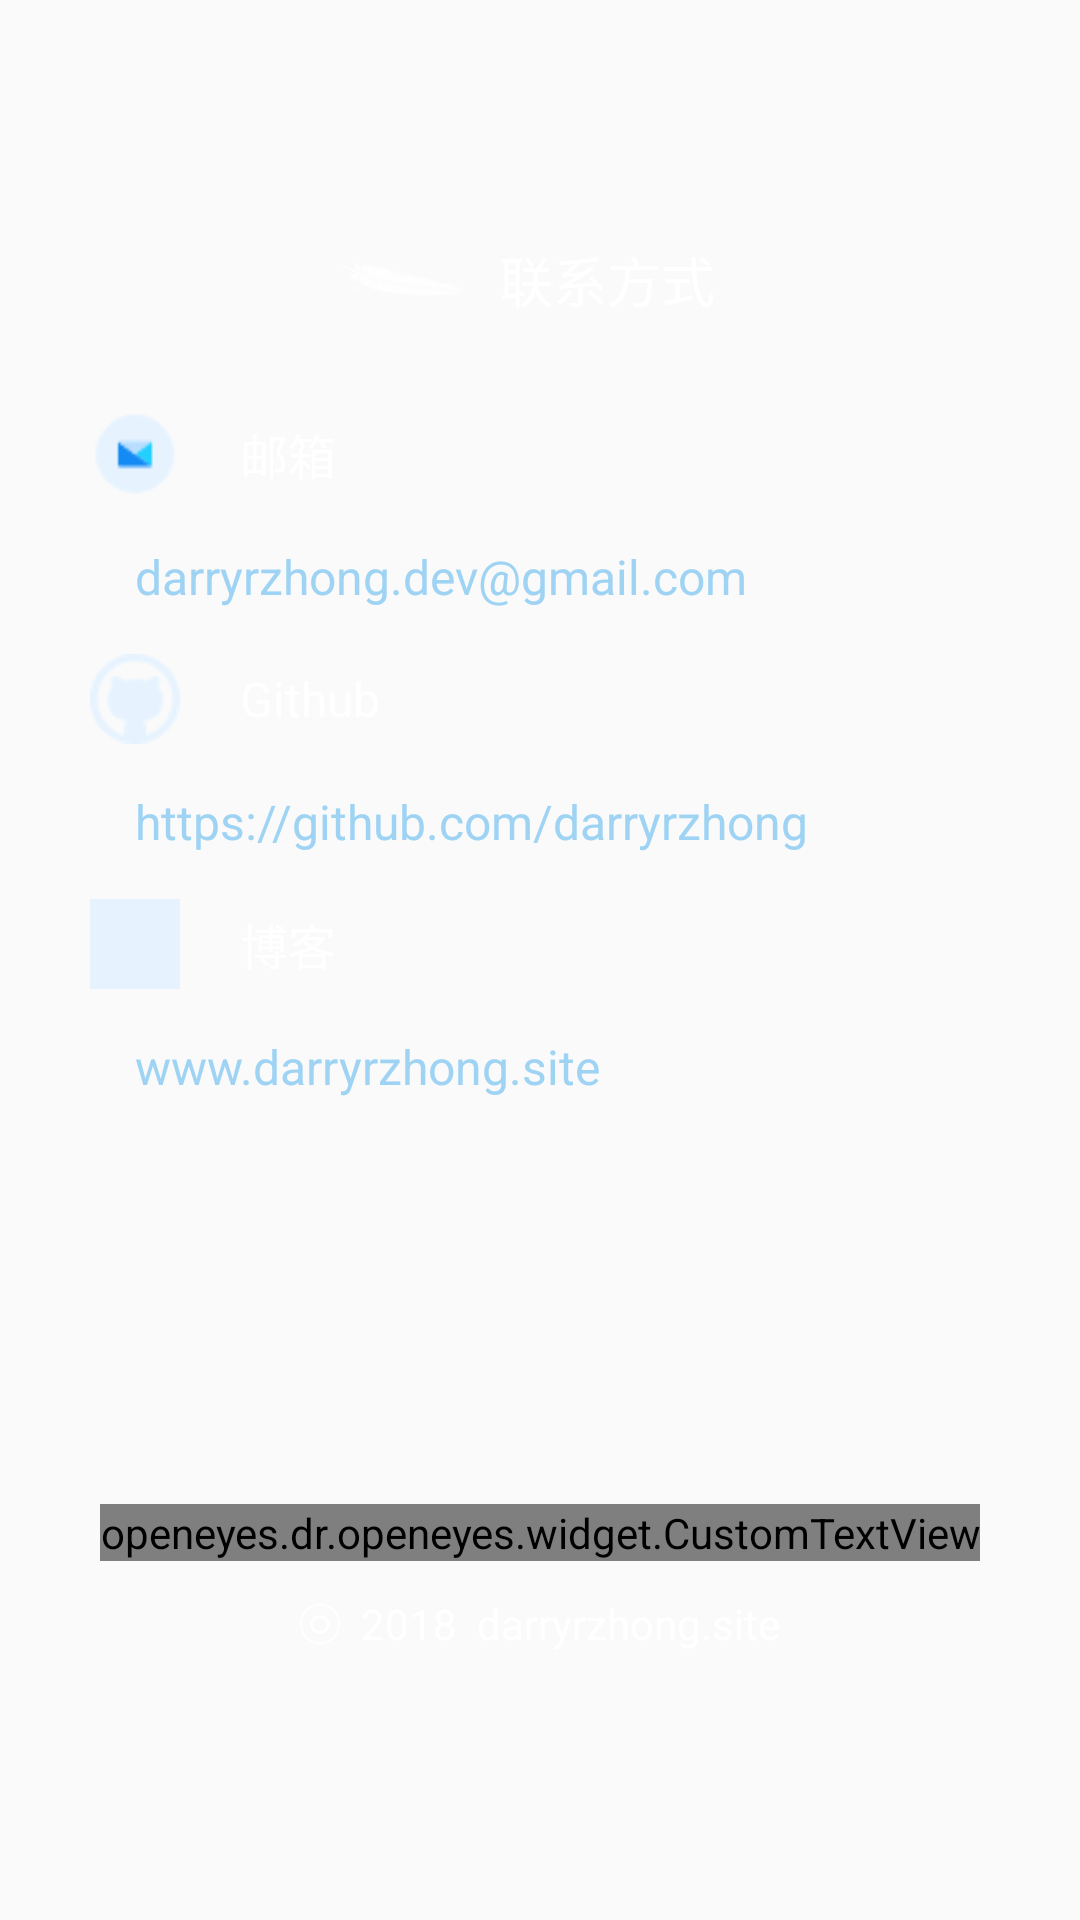

Screen size 1080px x 1920px. Icon name, then its center in pixels as point (x, y):
email: point (135, 454)
